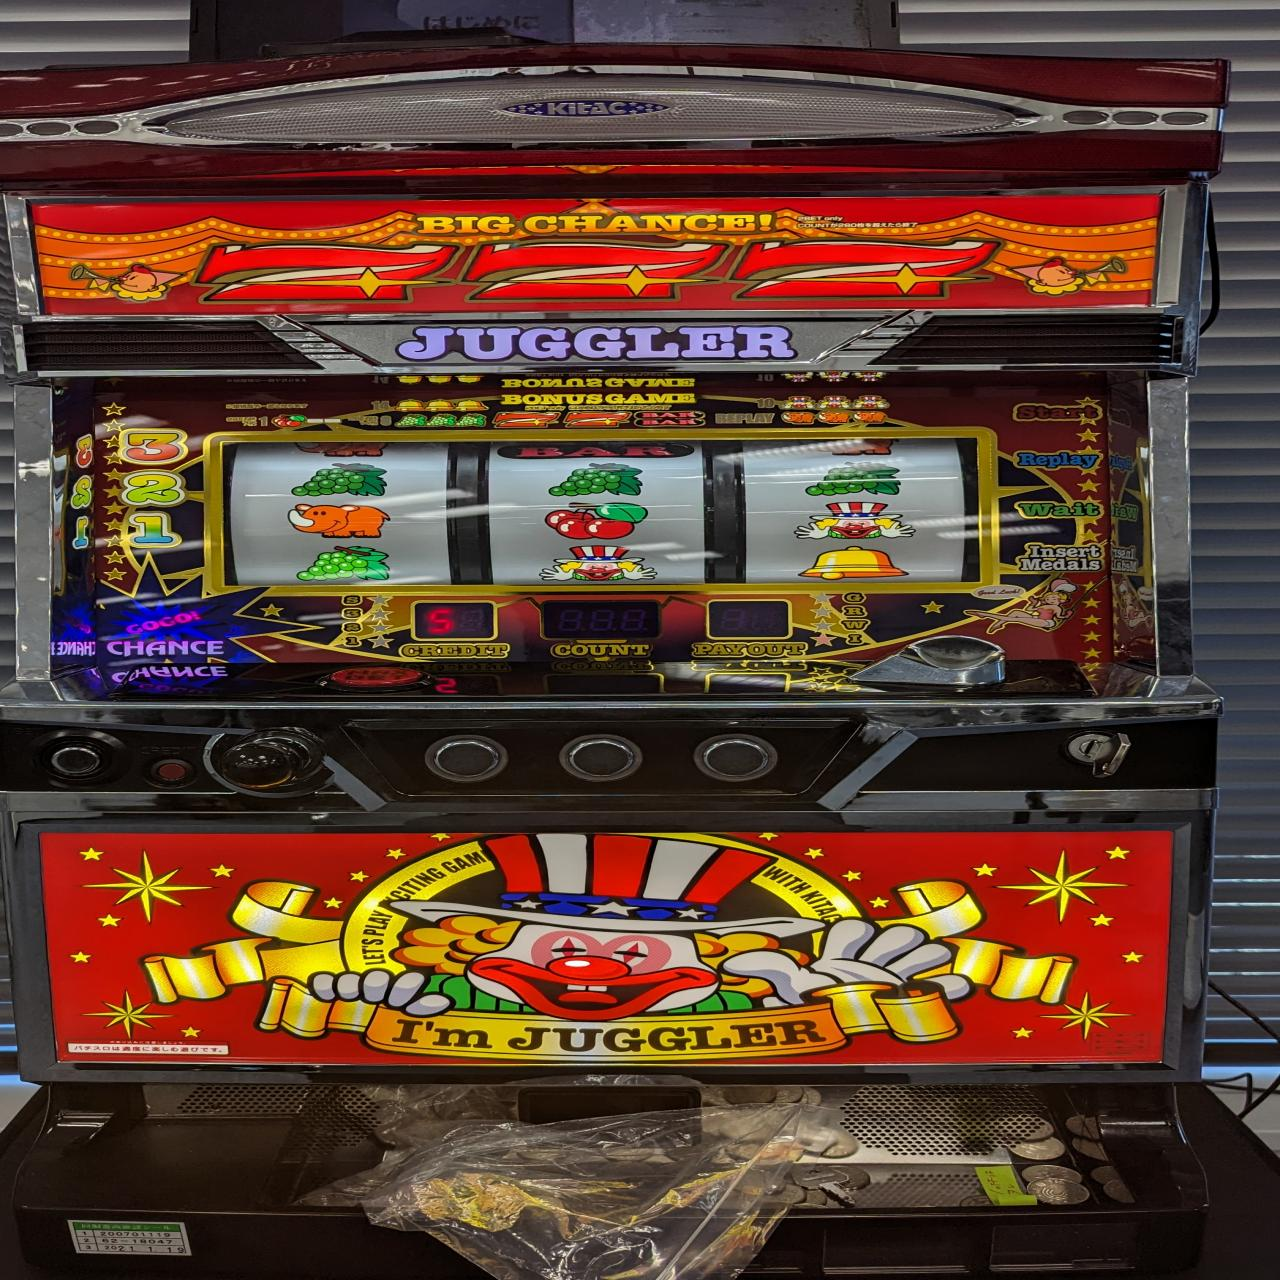Display: (218, 434, 987, 587)
bell: (789, 545, 915, 584)
cherry: (542, 501, 655, 540)
clown: (788, 501, 919, 543), (537, 543, 659, 581)
grape: (797, 459, 913, 497), (293, 544, 396, 584), (288, 459, 392, 498), (544, 461, 646, 497)
rhino: (278, 502, 393, 542)
